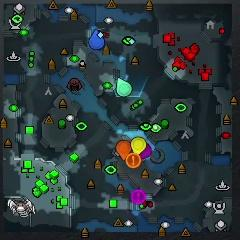Other: (126, 153, 141, 168), (131, 190, 146, 204)
p1: (90, 30, 105, 49)
p2: (116, 76, 132, 97)
p3: (139, 143, 152, 158)
p4: (132, 136, 147, 153)
p5: (116, 139, 131, 160)
